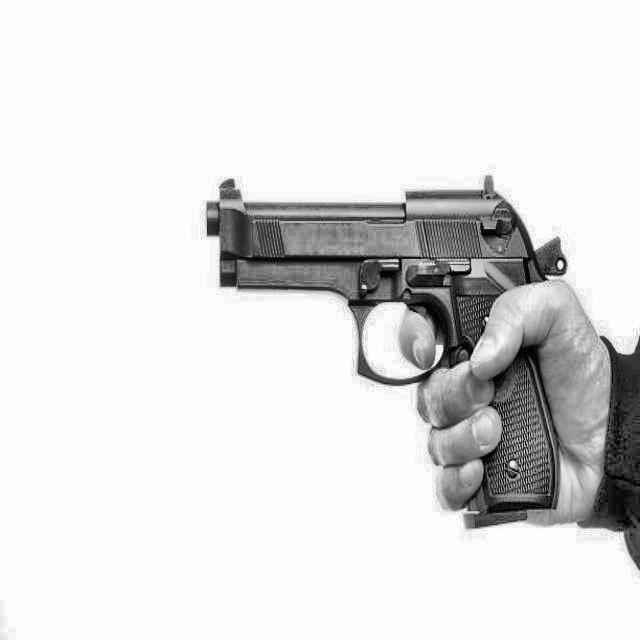pistol: (187, 153, 581, 532)
